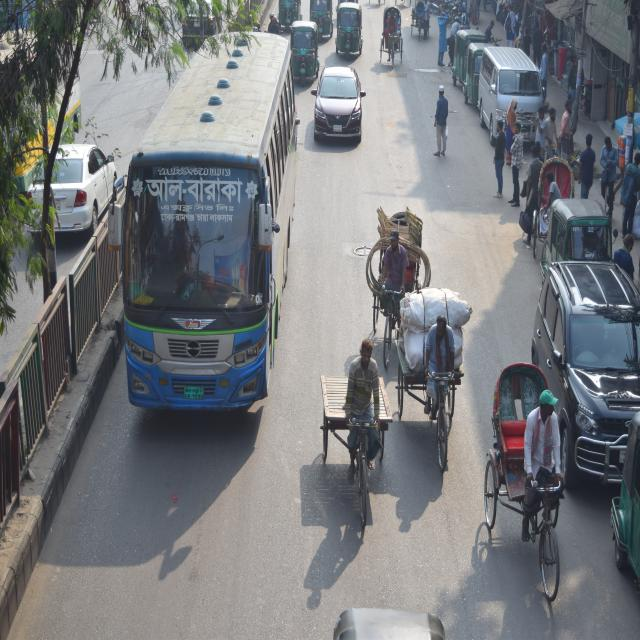bus: (119, 25, 293, 467)
car: (531, 252, 640, 476), (28, 126, 114, 234), (310, 64, 367, 136)
microbus: (476, 50, 539, 144)
